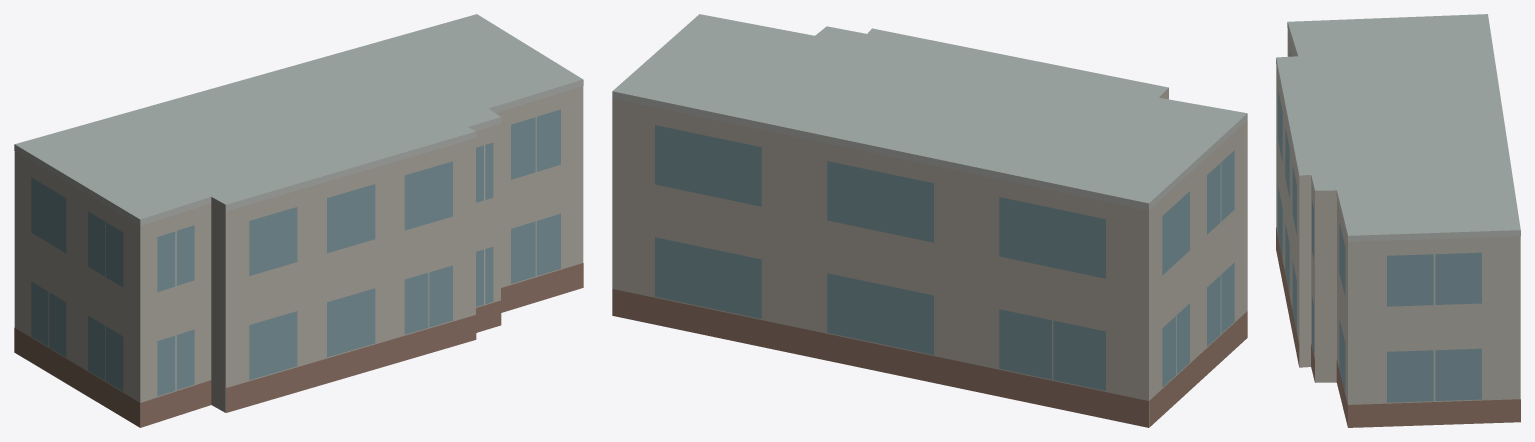
Rendered from survey-upis-32992940.glb.
3 views of the same model, side by side, from view 1: azimuth 30°, elevation 25°; view 2: azimuth 150°, elevation 25°; view 3: azimuth 270°, elevation 25° (orthographic). The views are drawn at different scales.
Parts seen in each view (by area): view 1: survey-upis-32992940.tmp; view 2: survey-upis-32992940.tmp; view 3: survey-upis-32992940.tmp.
Part boxes in pixels (left/top/right/bottom): survey-upis-32992940.tmp: left=14, top=14, right=583, bottom=427; survey-upis-32992940.tmp: left=612, top=14, right=1247, bottom=427; survey-upis-32992940.tmp: left=1276, top=14, right=1520, bottom=427.
Size of the model in its own units: 19.08 by 7.7 by 8.9.
